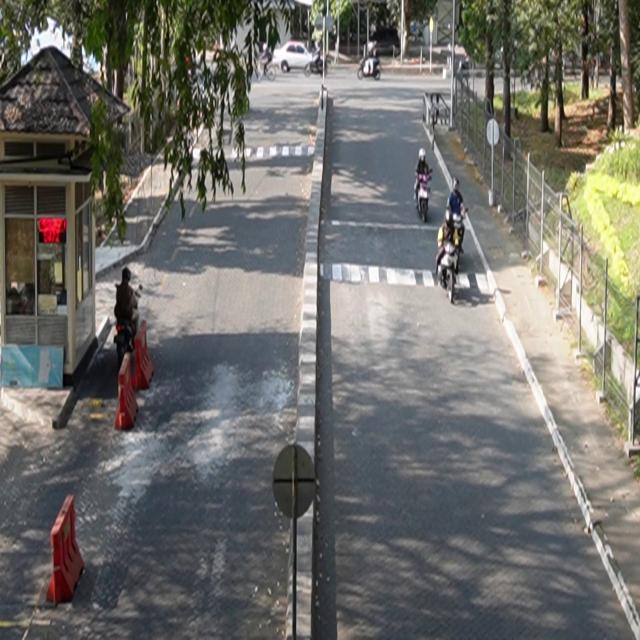car: (274, 42, 314, 74)
